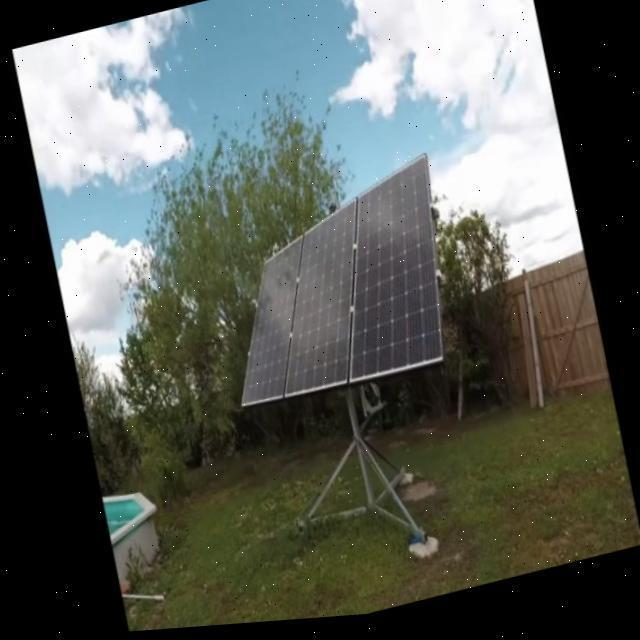Normal Solar Panel: (310, 158, 464, 390), (252, 204, 388, 403), (212, 240, 332, 413)
